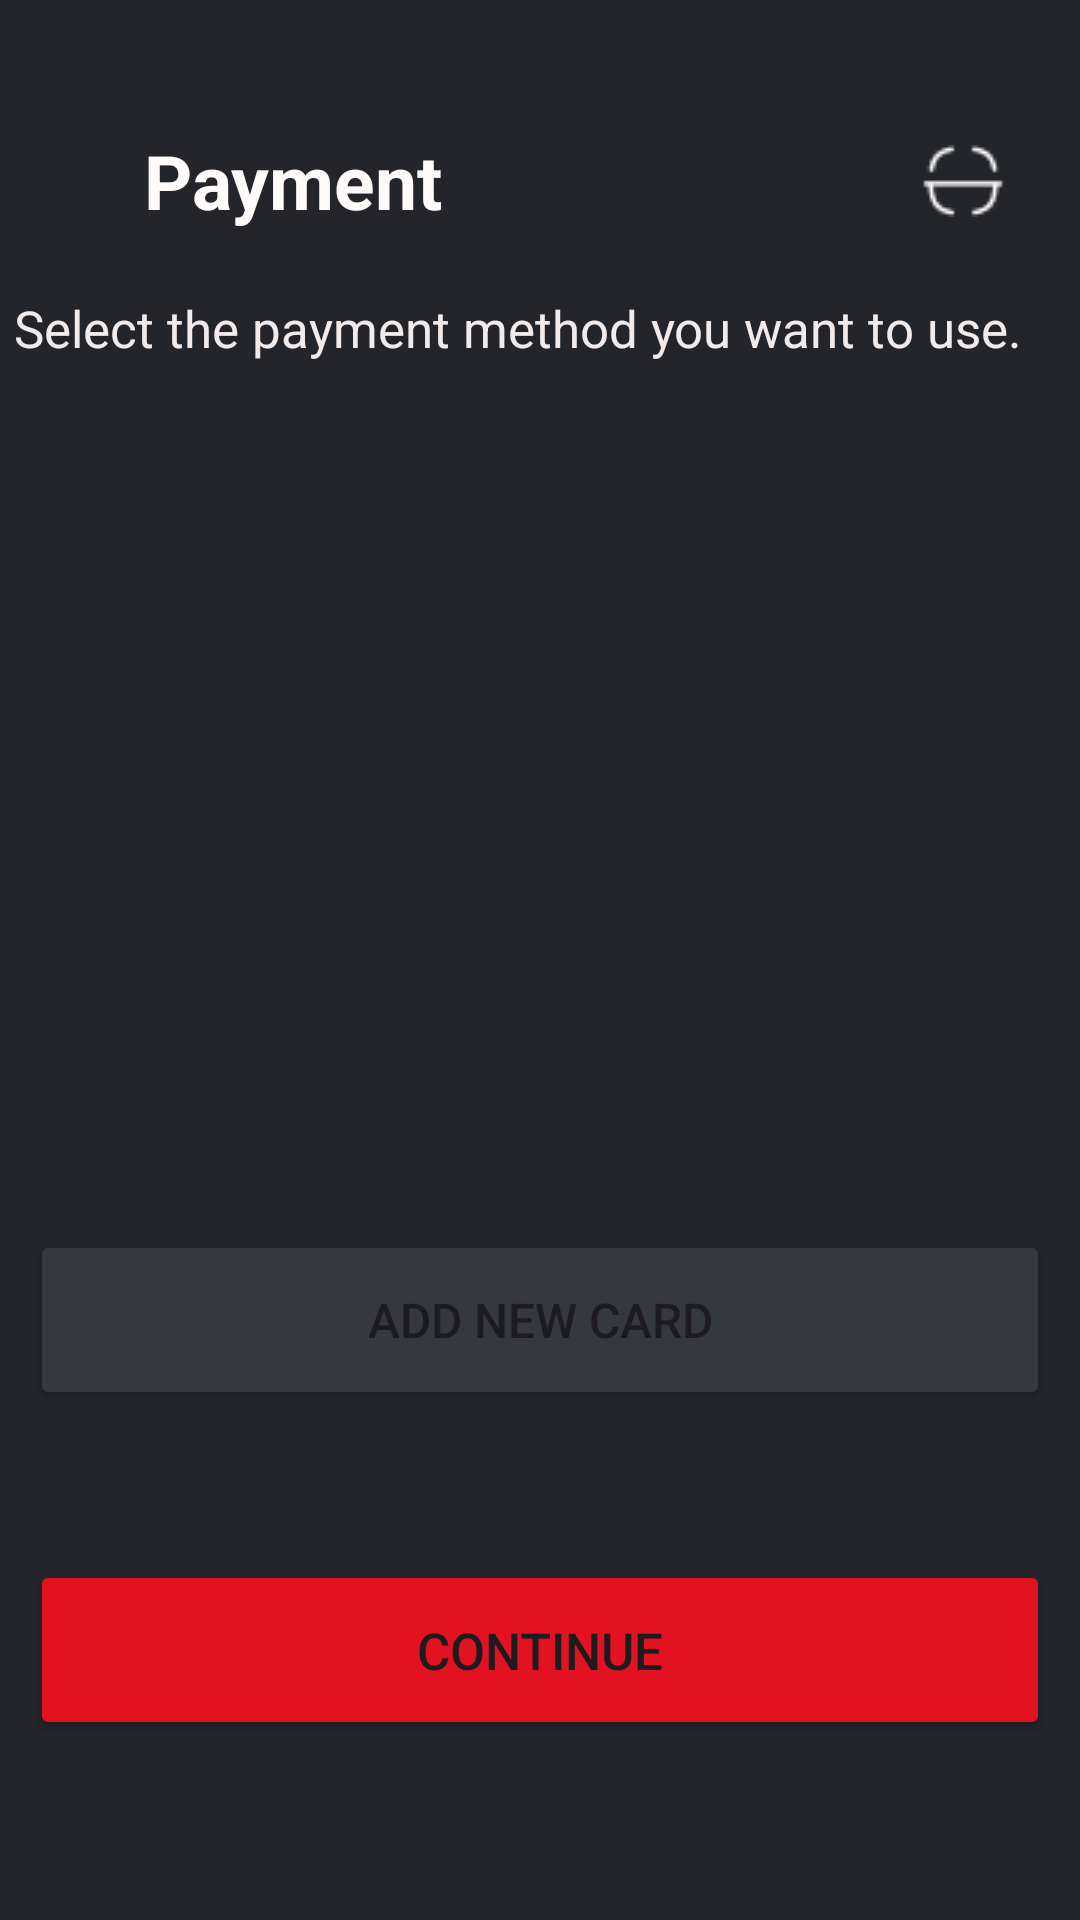

Where icons sit on this 1080px x 1920px app screen, as (x1, y1, x2, y2):
scannericon: (923, 145, 1003, 217)
